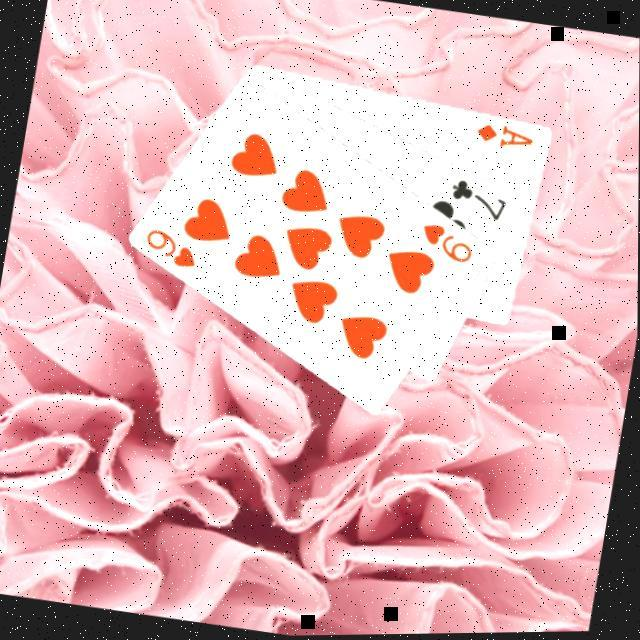7C: (443, 173, 511, 225)
9H: (413, 216, 479, 268), (137, 222, 203, 272)
AD: (471, 117, 537, 155)
